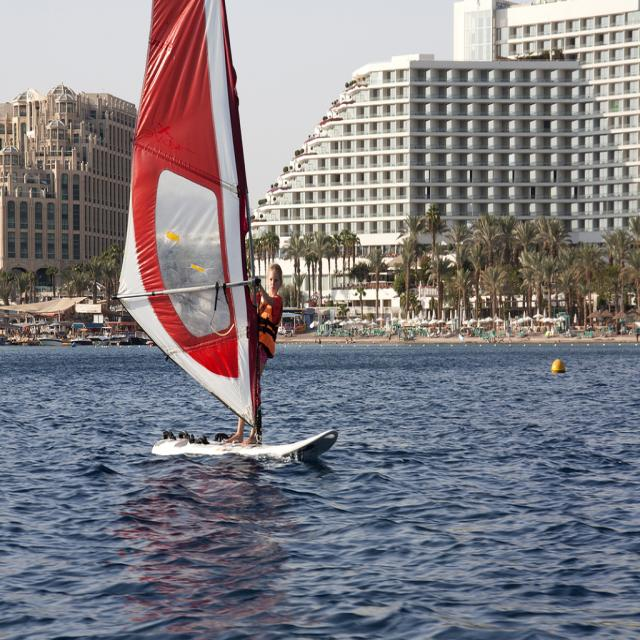Boat: (112, 12, 314, 482), (0, 311, 157, 348)
